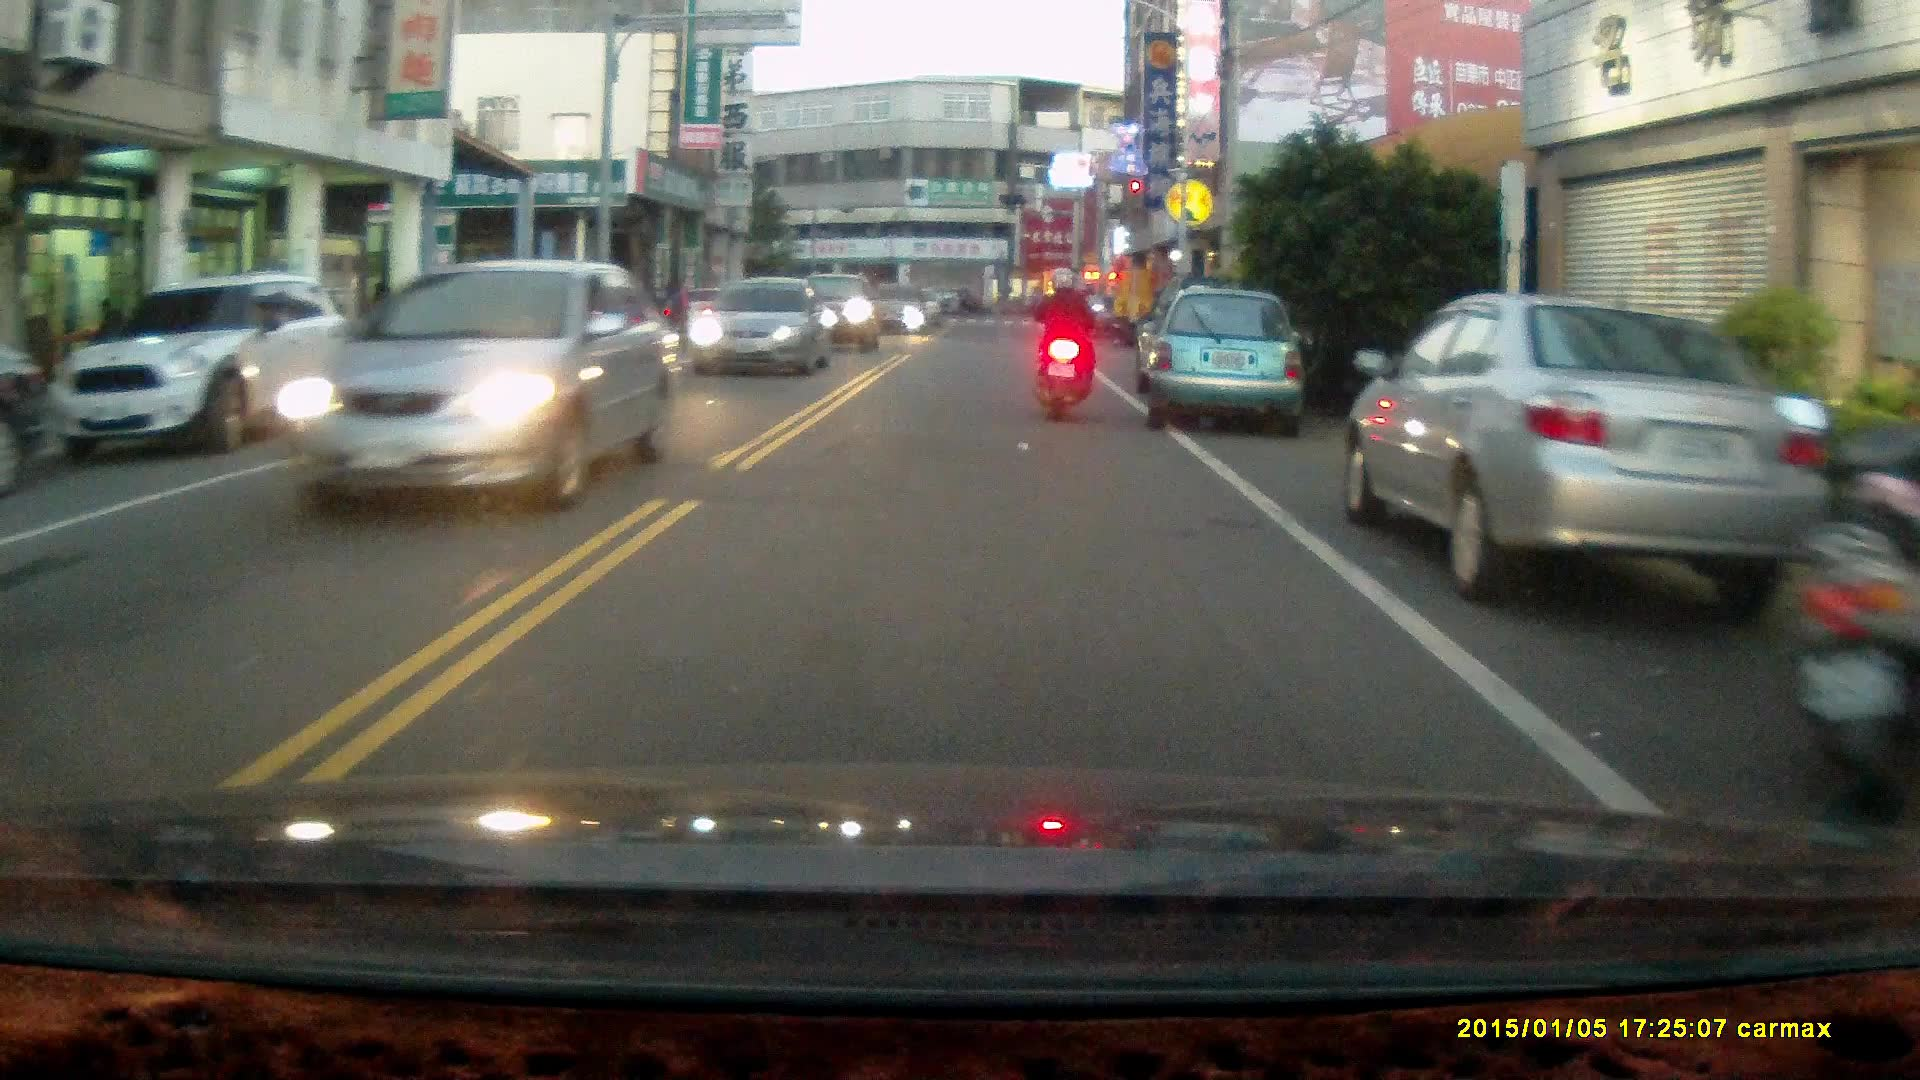pedestrian: (85, 293, 122, 365)
rider: (1031, 259, 1107, 420)
vehicle: (1340, 293, 1847, 602), (272, 258, 679, 507), (43, 269, 358, 469), (1145, 285, 1314, 438), (689, 279, 828, 383), (776, 264, 886, 359)
